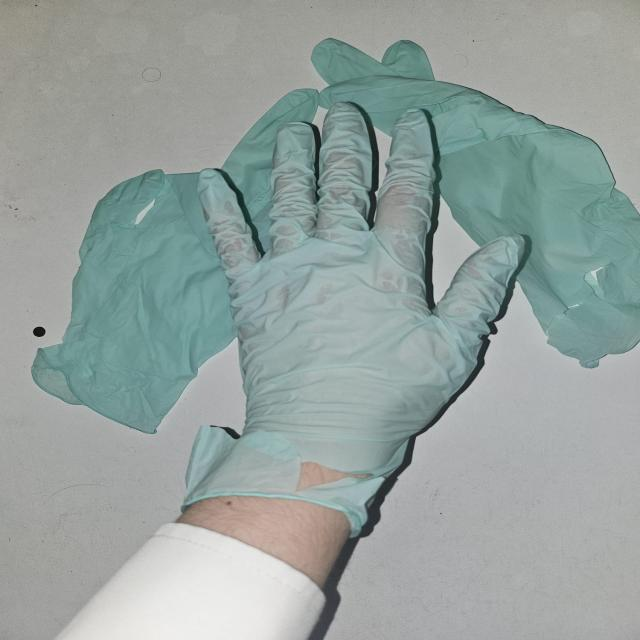gloves_damaged: (179, 100, 527, 524)
